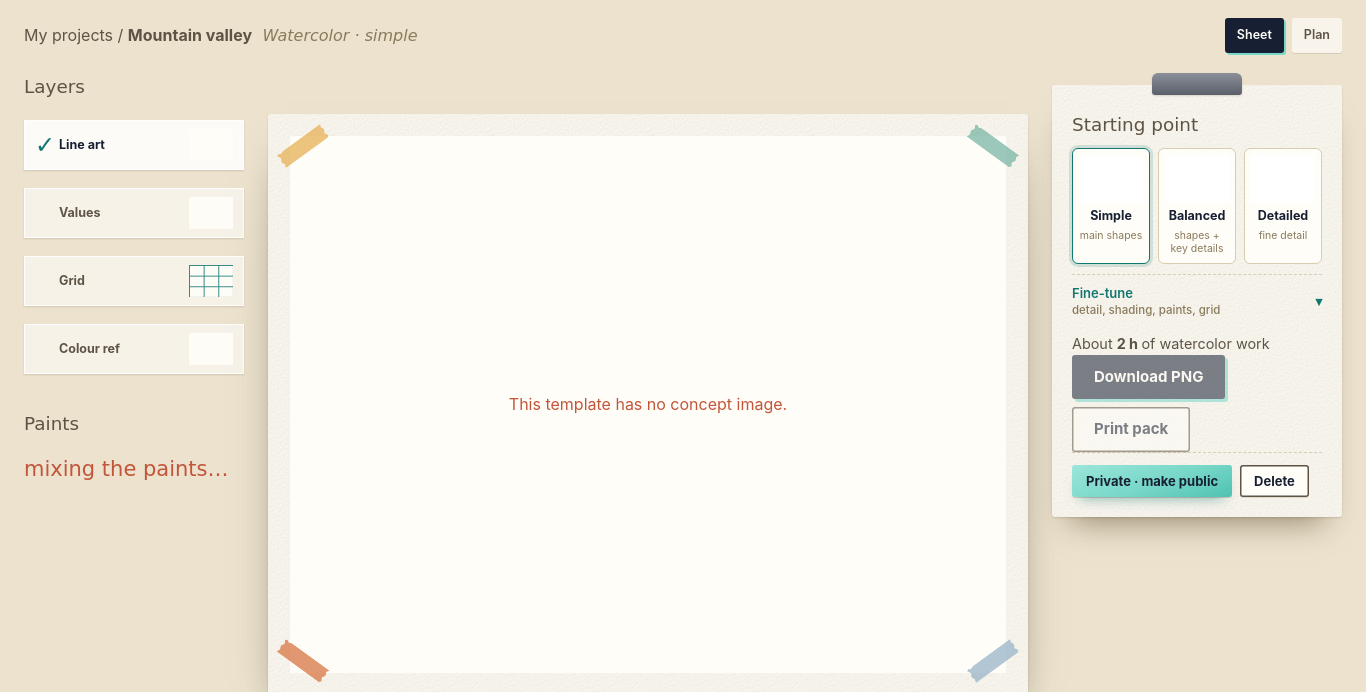
Scenario: Workspace › preset cards set every setting, fine-tuning marks it custom, and owner changes are saved
Click the button "Detailed fine detail": (1283, 206) x1=1244 y1=148 x2=1322 y2=264
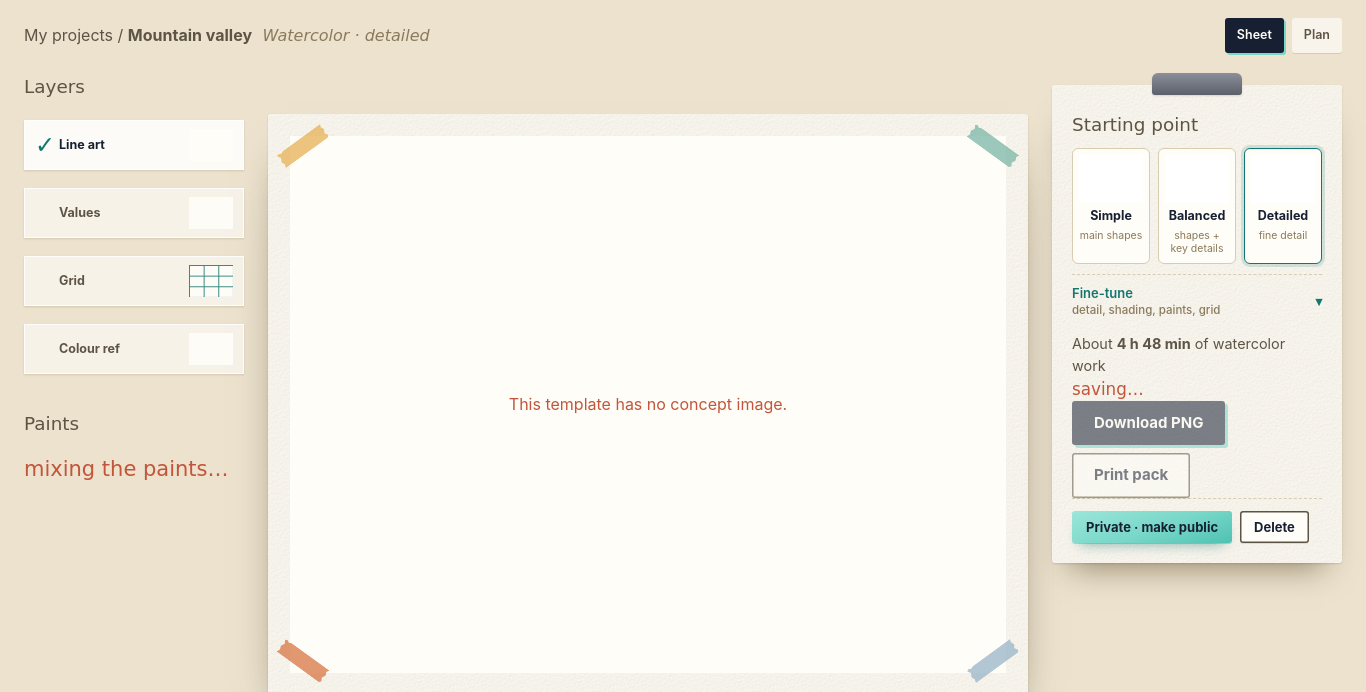
Click the button "Fine-tune detail, shading, paints, grid ▾": (1197, 301) x1=1072 y1=274 x2=1322 y2=327
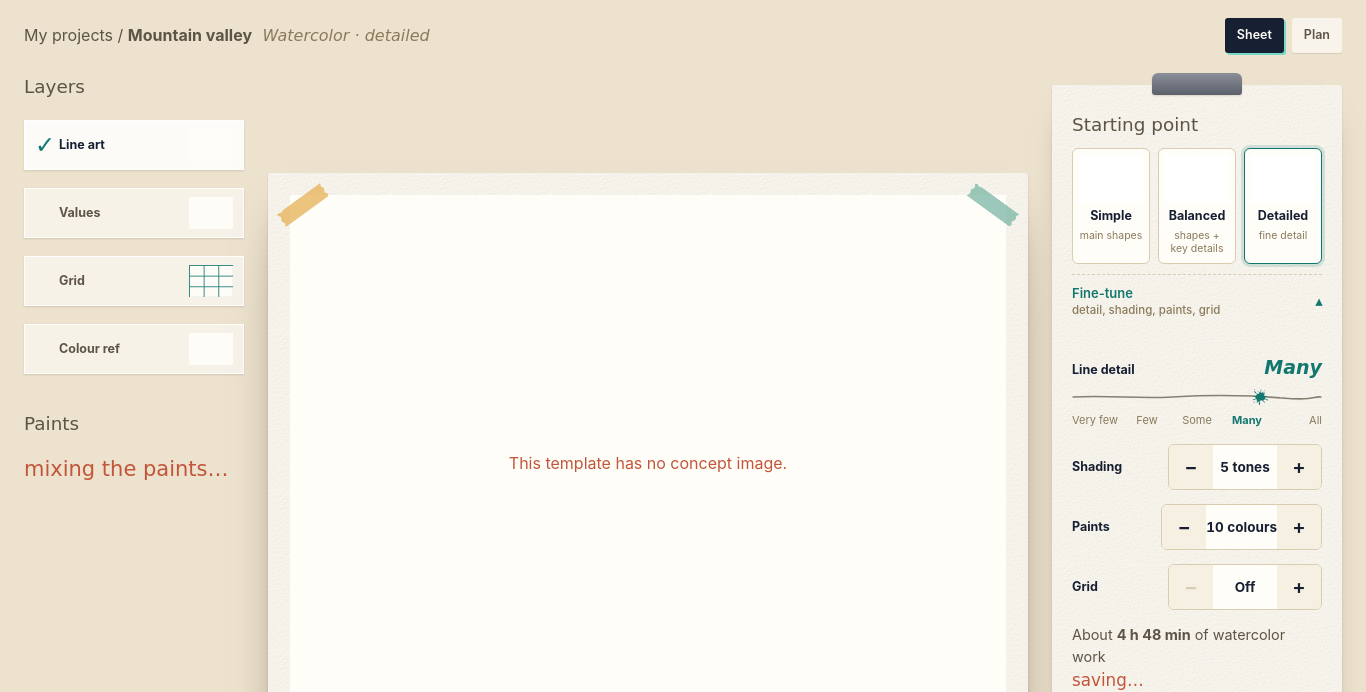
Click the button named "Increase shading": (1299, 467) x1=1277 y1=445 x2=1321 y2=489
Wait 900 ms
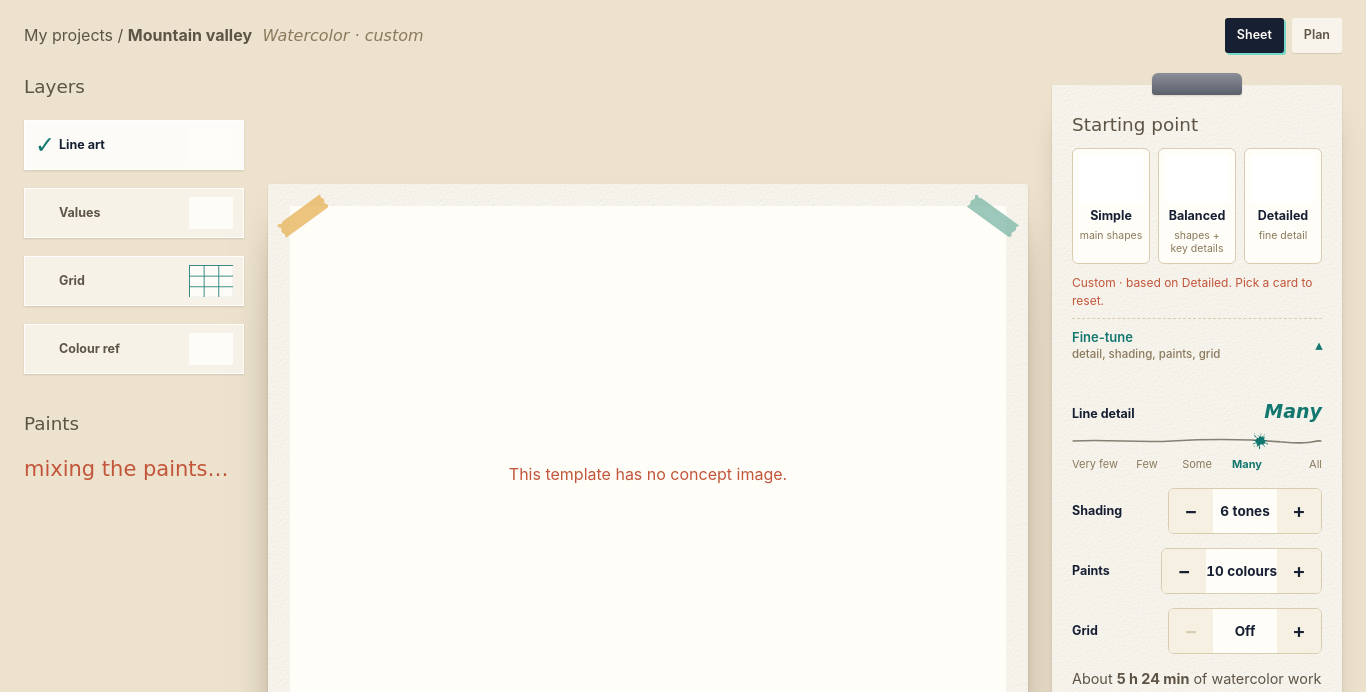
Result: the text "Custom · based on Detailed. Pick a card to reset." is shown at x1=1072 y1=274 x2=1322 y2=310
